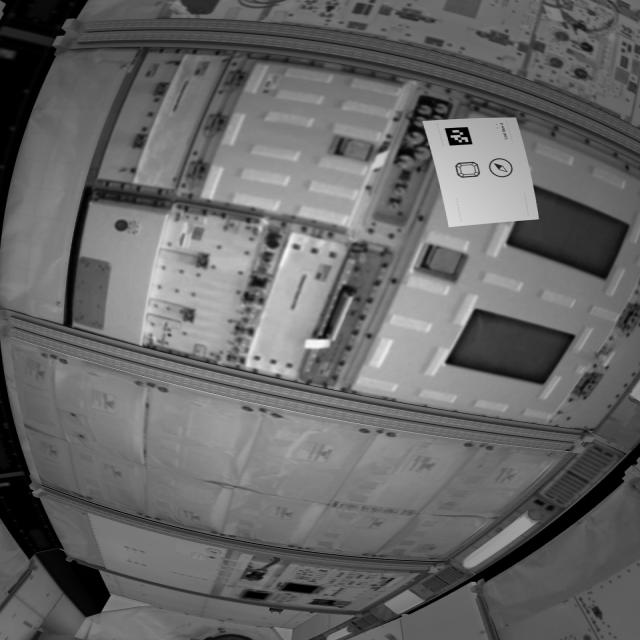compass: (487, 155, 519, 183)
emerald: (453, 161, 485, 181)
